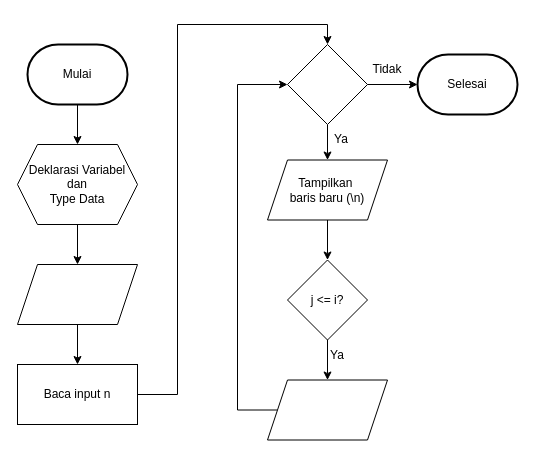
The diagram is 536 pixels wide and 458 high, and some of its shapes have lost their labels. Each missing label, with the centre of its shape:
Cetak "* ": (x=327, y=409)
i <= n?: (x=327, y=84)
Tampilkan "Masukkan n=": (x=77, y=294)
